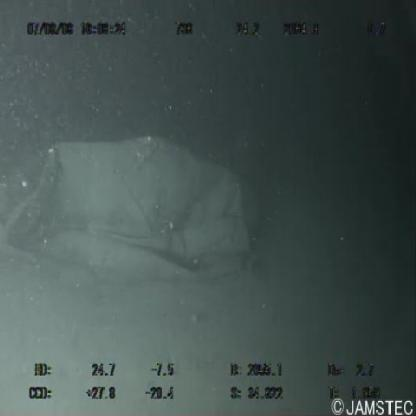Rác: (1, 125, 274, 310)
